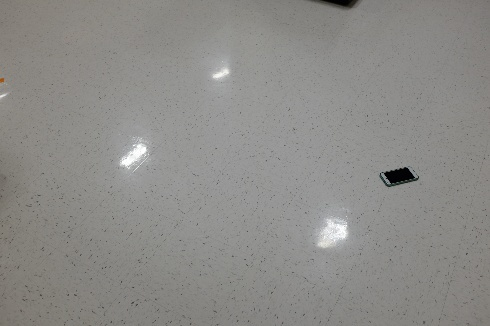phone: (375, 161, 424, 193)
